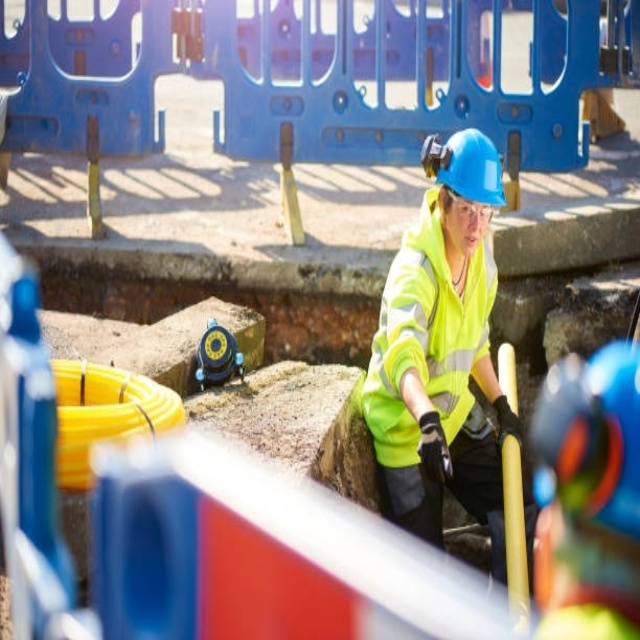Gafas: (448, 193, 490, 224)
Guantes: (493, 395, 525, 483), (417, 411, 453, 489)
Sin_mascara: (459, 231, 480, 256)
